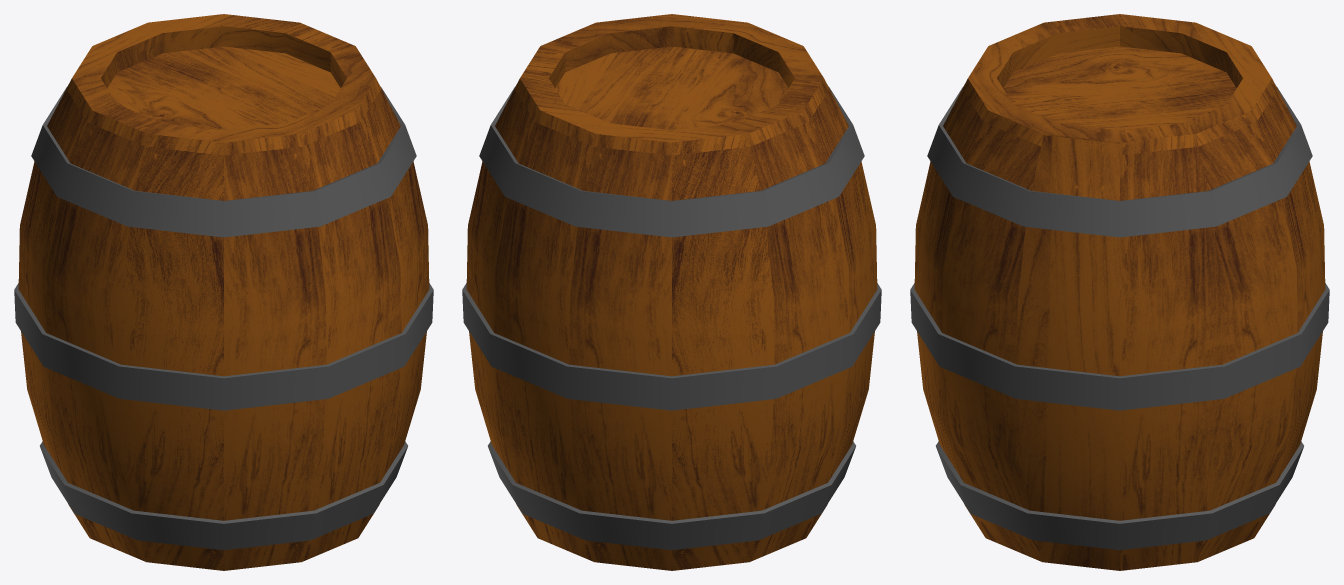
Rendered from barrel.fbx.
3 views of the same model, side by side, from view 1: azimuth 30°, elevation 25°; view 2: azimuth 150°, elevation 25°; view 3: azimuth 270°, elevation 25° (orthographic).
Parts seen in each view (by area): view 1: Circle; view 2: Circle; view 3: Circle.
Boxes of the visible parts, x1=… form: Circle: x1=14, y1=14, x2=433, y2=570; Circle: x1=462, y1=14, x2=881, y2=570; Circle: x1=910, y1=14, x2=1329, y2=570.
Size of the model in its own units: 270 by 304 by 270.
